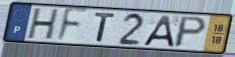2: (117, 12, 146, 48)
A: (141, 15, 175, 49)
F: (54, 7, 91, 44)
H: (26, 7, 62, 42)
P: (171, 15, 209, 49)
T: (93, 12, 118, 43)
